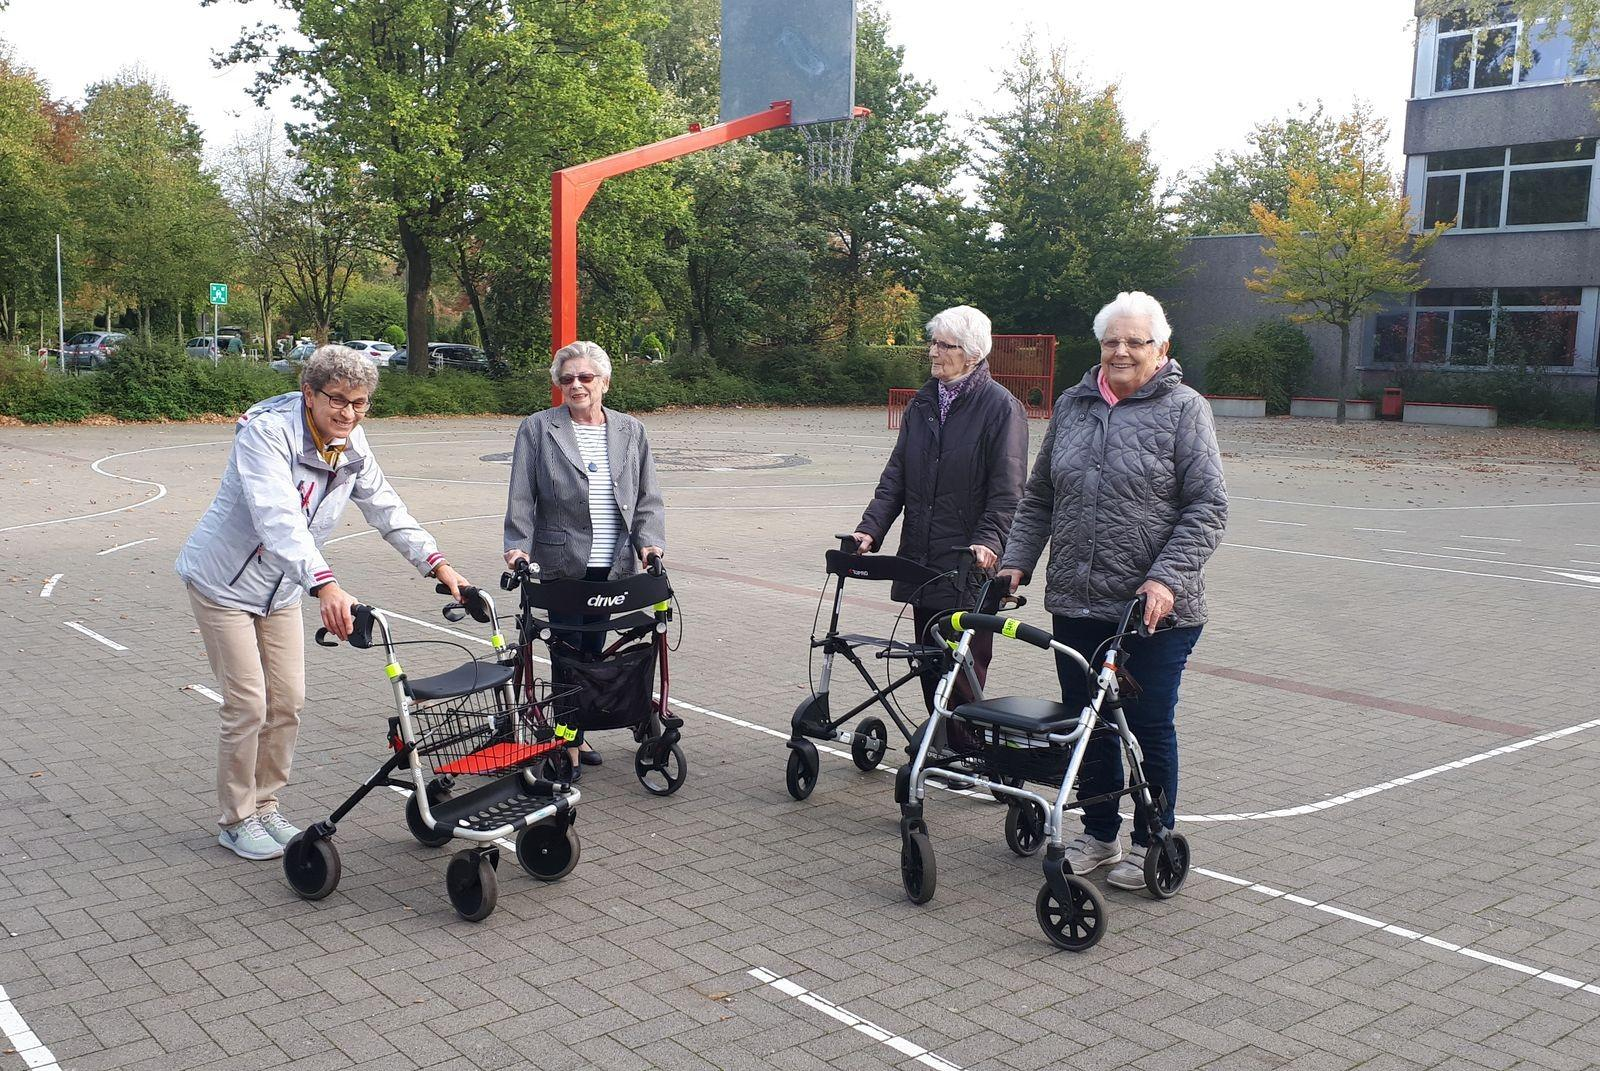walking_frame: (173, 344, 583, 923), (894, 292, 1231, 951), (785, 305, 1029, 803), (490, 339, 688, 796)
